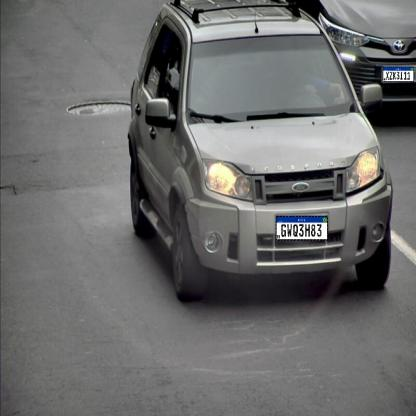PlacaM: (276, 216, 328, 240), (383, 66, 414, 82)
